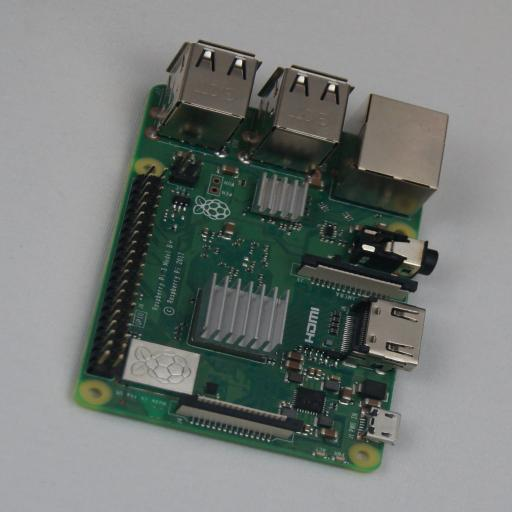Raspberry Pi 3 B-: (78, 40, 448, 472)
